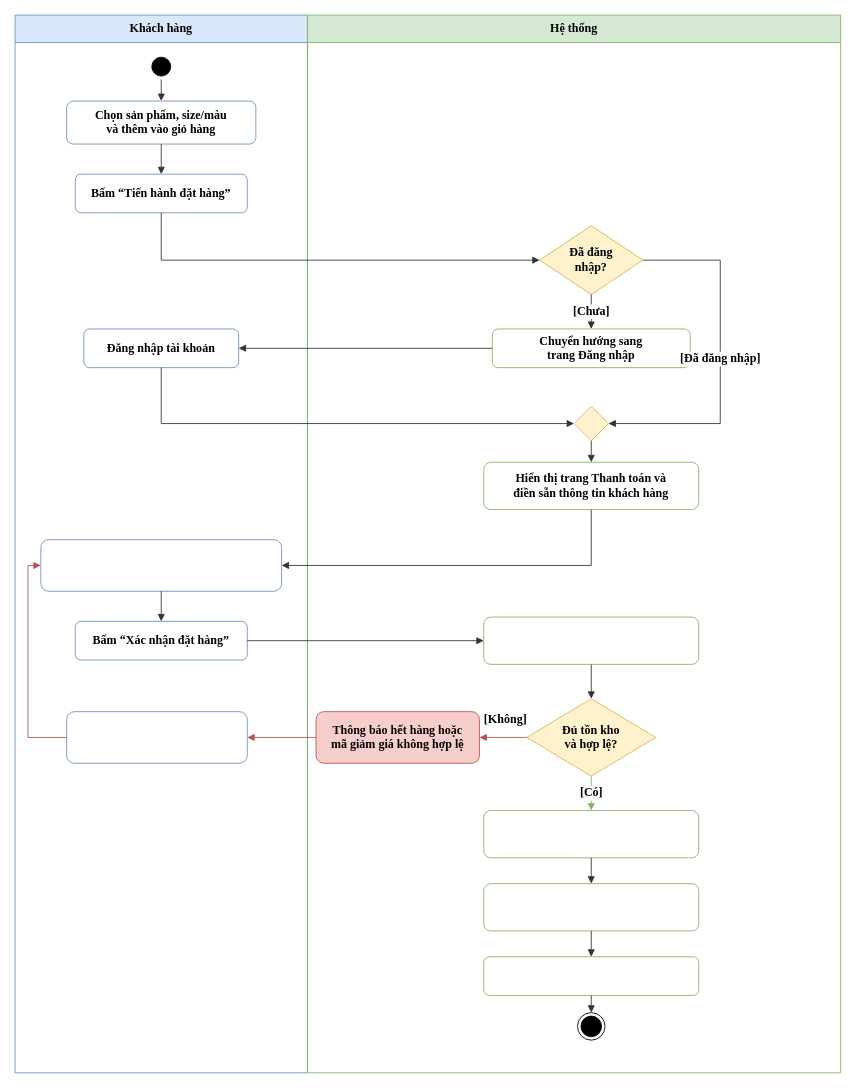
This 856x1088 diagram has some shape labels left out. The centre of each missing label's shape, as x and y in pixels:
"Hiển thị thông báo đặt hàng thành công" belongs at pixel 591 975.
"Kiểm tra tồn kho biến thể và điều kiện áp dụng voucher" belongs at pixel 591 640.
"Nhập địa chỉ nhận hàng, chọn phương thức thanh toán (COD/VietQR) và mã giảm giá" belongs at pixel 161 565.
"Trừ tồn kho và lưu đơn hàng (MaDon) trong một transaction" belongs at pixel 591 834.
"Tạo mã VietQR (nếu chuyển khoản) và gửi email hóa đơn" belongs at pixel 591 907.
"Điều chỉnh giỏ hàng hoặc thông tin đặt đơn" belongs at pixel 156 737.
